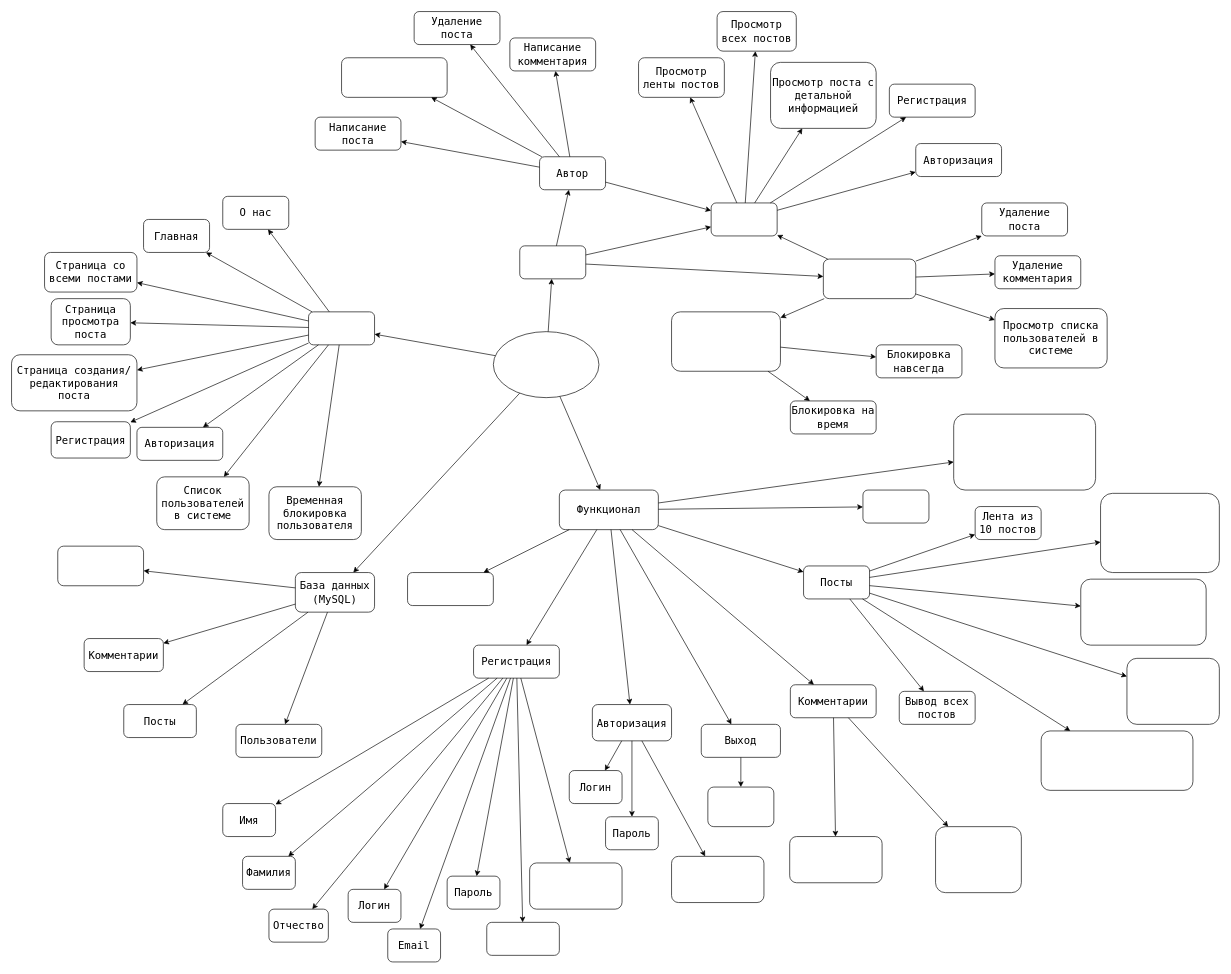
The diagram is 1231 pixels wide and 974 high, and some of its shapes have lost their labels. The shapes that lost their labels are listed below. From the top down, each one's centre as x and y in pixels, then its label:
At (394,77): "Редактирование поста".
At (743,219): "Гость".
At (552,262): "Роли".
At (869,278): "Администратор".
At (341,328): "Страницы".
At (725,341): "Блокировка входа пользователя в систему".
At (546,364): "Информационная система".
At (1024,451): "Отображение элементов интерфейса в зависимости от роли пользователя".
At (895,506): "Боковое меню".
At (1159,533): "При перманентной блокировке пользователя удаляются все его посты".
At (100,565): "Блокировки (история блокировок)".
At (450,589): "Пагинация".
At (1143,611): "При удалении поста удаляются все комментарии к нему".
At (1172,691): "Отображение количества комментариев к посту".
At (1116,760): "Валидация данных при создании/редактировании поста".
At (740,806): "Удаление токена".
At (717,879): "Валидация данных при авторизации".
At (835,859): "Возможность ответа на комментарий".
At (978,859): "Валидация данных при создании комментария".
At (575,885): "Валидация данных при регистрации".
At (522,938): "Повторение пароля".
